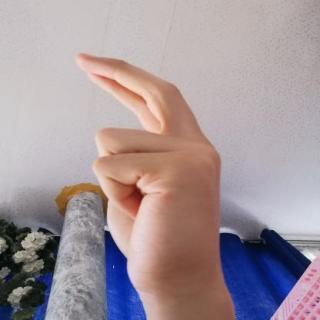ZAY: (61, 44, 234, 304)
